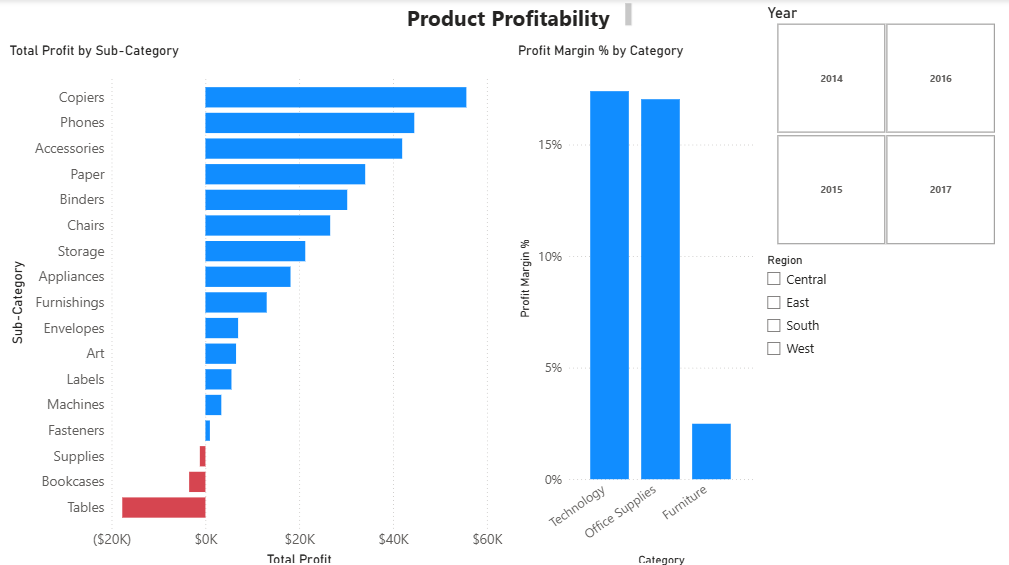

What the dashboard file says about the page in this screenshot:
{"tool":"powerbi","page":{"name":"Products","canvas":[1280,720],"ordinal":1},"visuals":[{"type":"clusteredBarChart","fields":{"Category":["orders.Sub-Category"],"Y":["orders.Total Profit"]},"box":[9.4,54.8,631.2,665.2],"z":0},{"type":"clusteredColumnChart","fields":{"Category":["orders.Category"],"Y":["orders.Profit Margin %"]},"box":[650.1,54.8,306.1,665.2],"z":1000},{"type":"slicer","fields":{"Values":["Date.Year"]},"box":[956.2,0,323.2,315.6],"z":2000},{"type":"slicer","fields":{"Values":["orders.Region"]},"box":[956.2,315.6,323.2,404.4],"z":3000},{"type":"textbox","box":[510.2,0,292.9,41.6],"z":3001}]}

Visuals, with their boxes in screenshot pixels (x1, y1, x2, y2), scaled from the page's 1280x720 canvas onto the 1009x565 screenshot:
clusteredBarChart - orders.Sub-Category x orders.Total Profit: rect(7, 43, 505, 564)
clusteredColumnChart - orders.Category x orders.Profit Margin %: rect(512, 43, 754, 564)
slicer - Date.Year: rect(754, 0, 1008, 248)
slicer - orders.Region: rect(754, 248, 1008, 564)
textbox: rect(402, 0, 633, 33)
